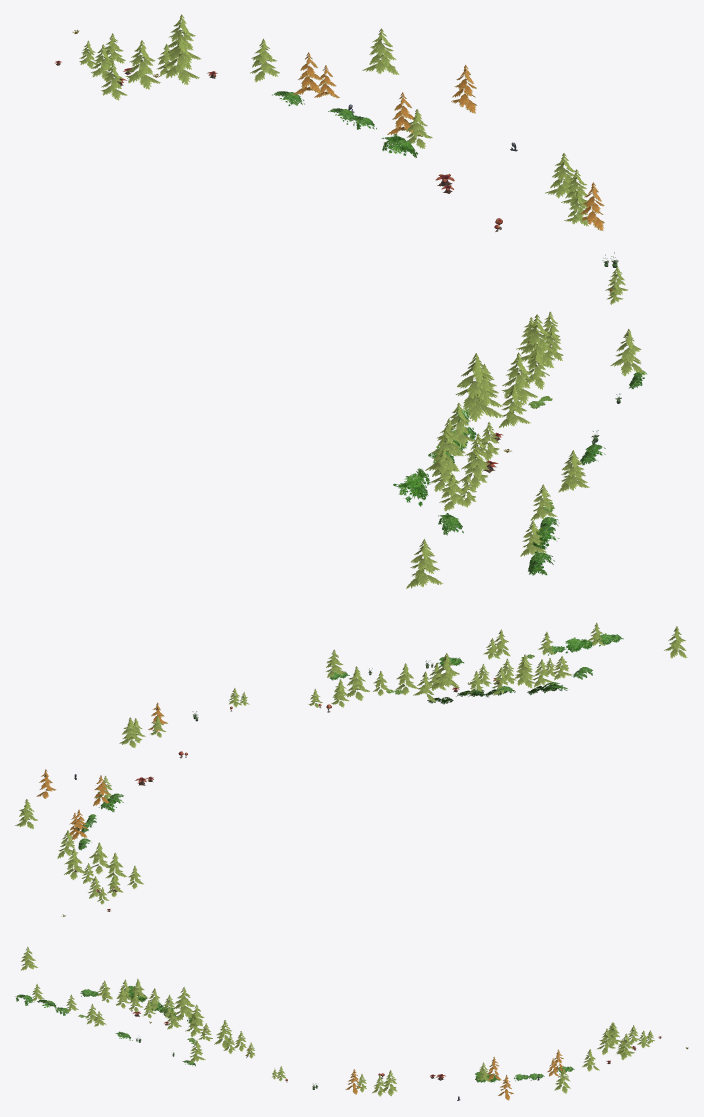
The model's file is zhibei12_1.fbx.
The picture shows the model from 3 angles, top to bottom: view 1: azimuth 30°, elevation 25°; view 2: azimuth 150°, elevation 25°; view 3: azimuth 270°, elevation 25°; orthographic projection. The views are drawn at different scales.
Visible parts, largest first — view 1: zhibei12_1; view 2: zhibei12_1; view 3: zhibei12_1.
Part boxes in pixels (x1,y1,x2,y2): zhibei12_1: (54,14,647,588); zhibei12_1: (15,622,687,916); zhibei12_1: (15,947,688,1100).
Size of the model in its own units: 7241 by 1007 by 15316.
